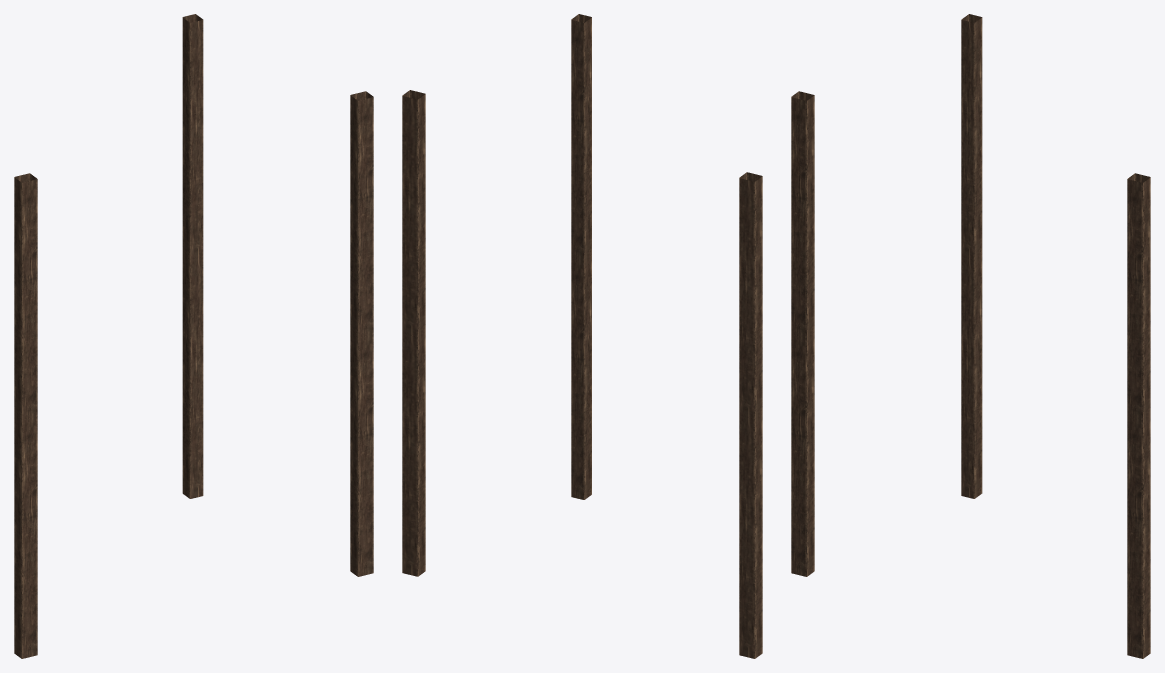
File: SM_BackWall_03.fbx
The picture shows the model from 3 angles, left to right: view 1: azimuth 30°, elevation 25°; view 2: azimuth 150°, elevation 25°; view 3: azimuth 330°, elevation 25°; orthographic projection.
Parts seen in each view (by area): view 1: SM_BackWall_03_LOD0; view 2: SM_BackWall_03_LOD0; view 3: SM_BackWall_03_LOD0.
Part boxes in pixels (x1,y1,x2,y2): SM_BackWall_03_LOD0: [14, 14, 373, 658]; SM_BackWall_03_LOD0: [402, 14, 762, 658]; SM_BackWall_03_LOD0: [791, 14, 1150, 658].
Size of the model in its own units: 976 by 43.02 by 1574.
